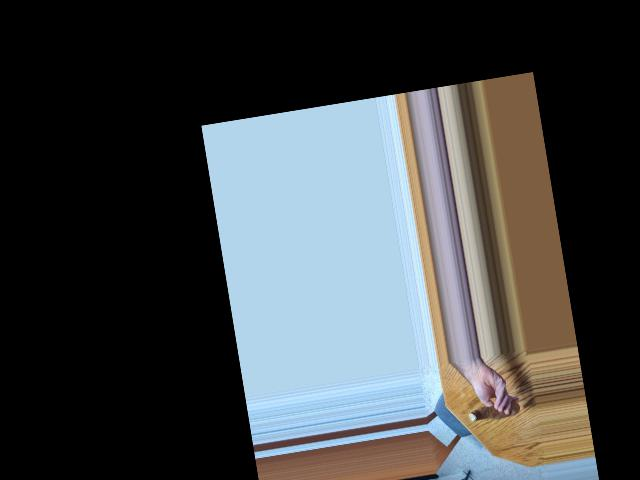sweet_potato: (470, 398, 518, 427)
